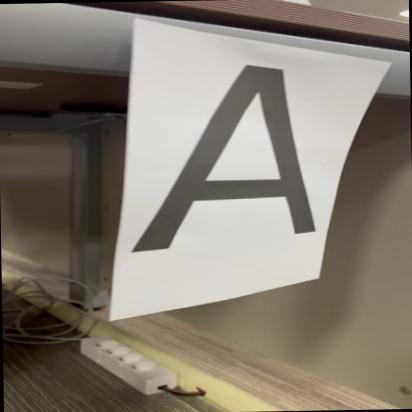seat: (132, 56, 320, 258)
